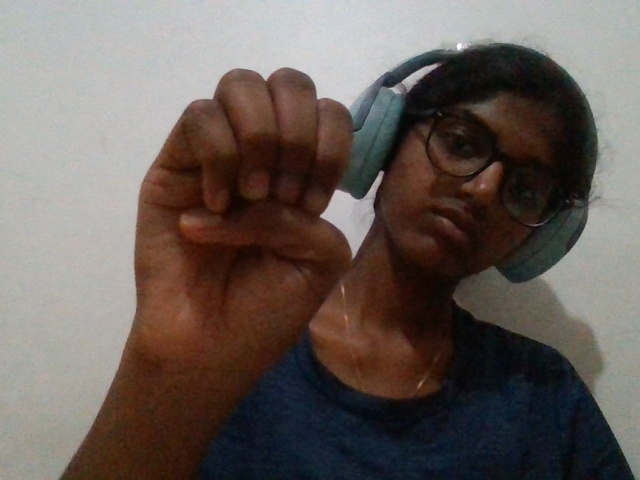E: (104, 39, 361, 444)
